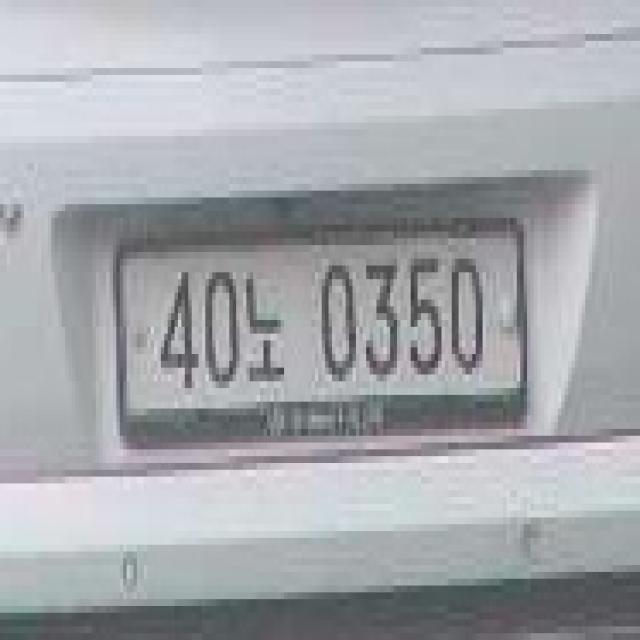0: (315, 252, 356, 381), (202, 273, 239, 382), (452, 252, 486, 368)
3: (360, 252, 400, 381)
4: (158, 272, 198, 395)
5: (404, 252, 441, 381)
license_plate: (106, 232, 527, 408)
no: (240, 266, 288, 381)
